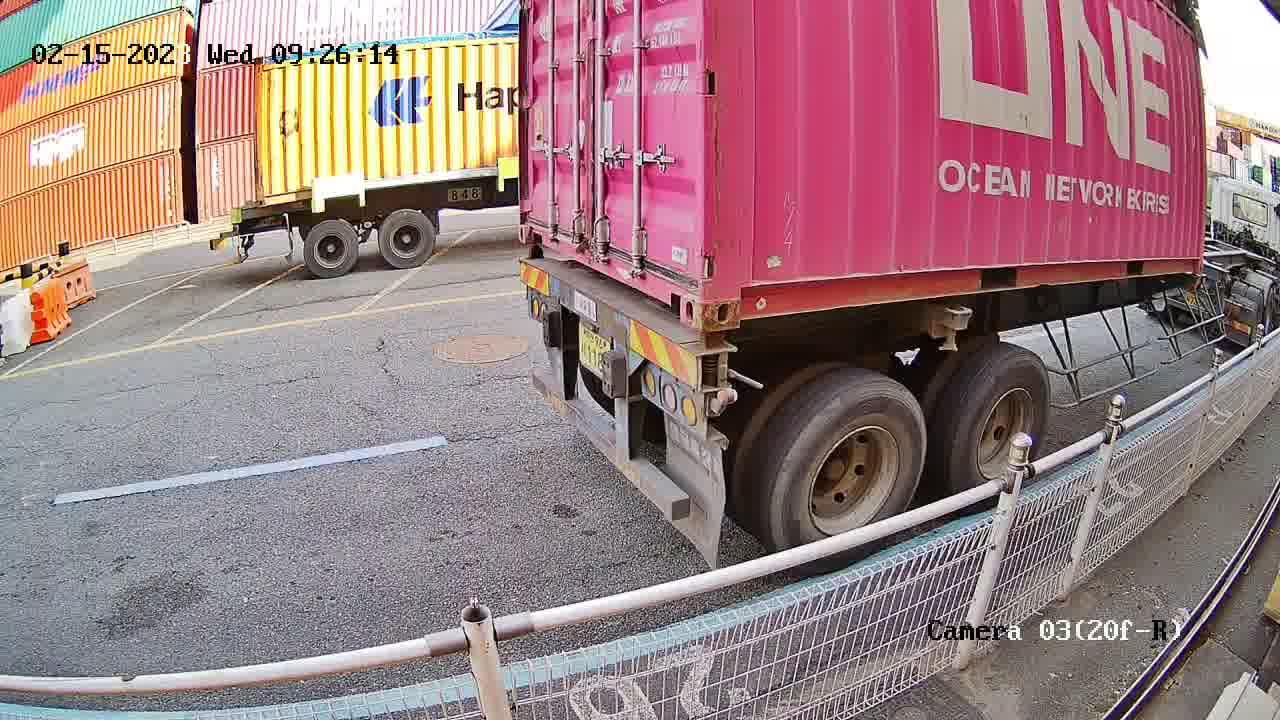Chassis: (520, 262, 701, 400)
Cone: (700, 327, 738, 395)
Hole_L: (702, 235, 783, 331), (514, 195, 548, 245)
Hole_R: (648, 232, 705, 332)
Tire: (769, 388, 924, 548), (949, 354, 1053, 488)
